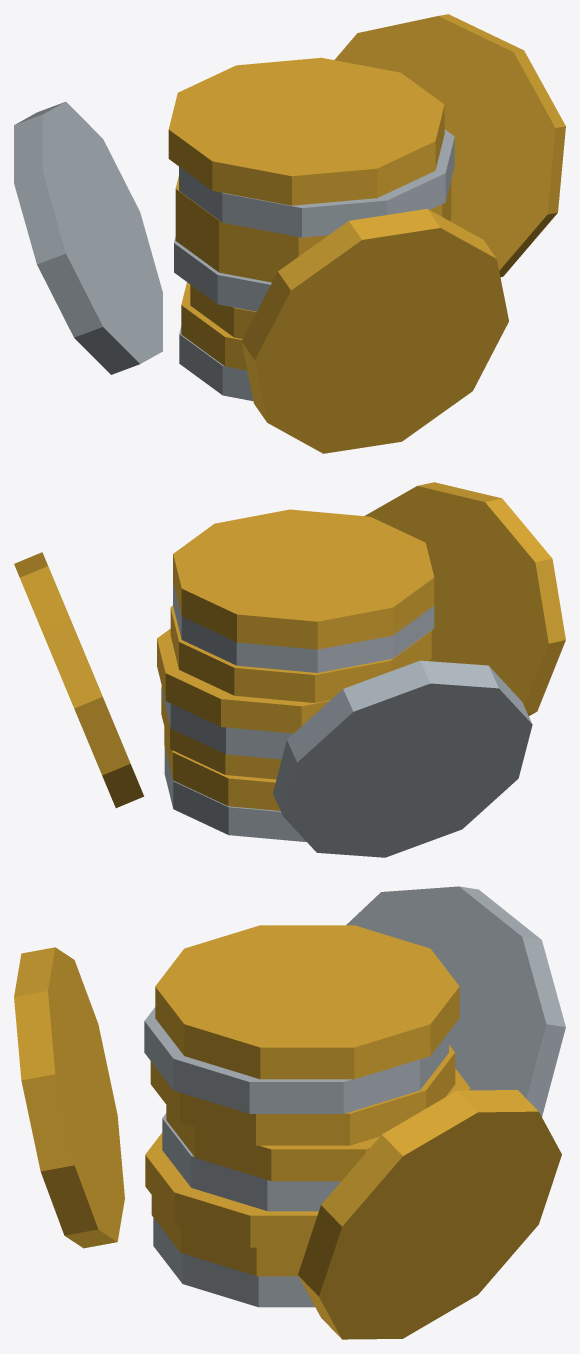
The model's file is mdvl_food_coin_stack_01.glb.
3 views of the same model, one above another, from view 1: azimuth 30°, elevation 25°; view 2: azimuth 150°, elevation 25°; view 3: azimuth 270°, elevation 25° (orthographic). The views are drawn at different scales.
Visible parts, largest first — view 1: mdvl_food_coin_stack_01; view 2: mdvl_food_coin_stack_01; view 3: mdvl_food_coin_stack_01.
Boxes of the visible parts, x1,y1,x2,y2 form: mdvl_food_coin_stack_01: (14,14,565,453); mdvl_food_coin_stack_01: (14,482,565,857); mdvl_food_coin_stack_01: (14,886,565,1339).
Size of the model in its own units: 0.0565 by 0.0254 by 0.0471.
1 material, 1 textured.
